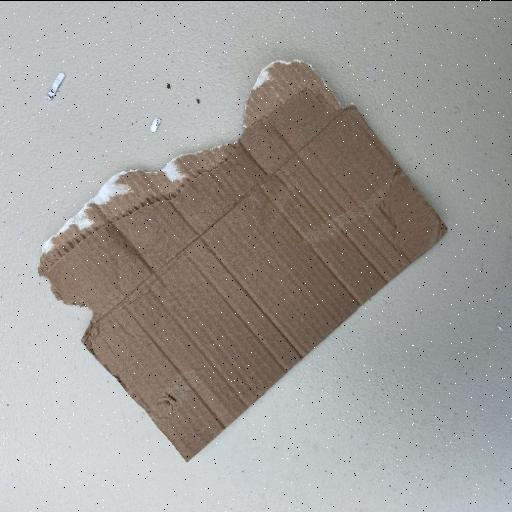Cardboard: (36, 58, 448, 464)
